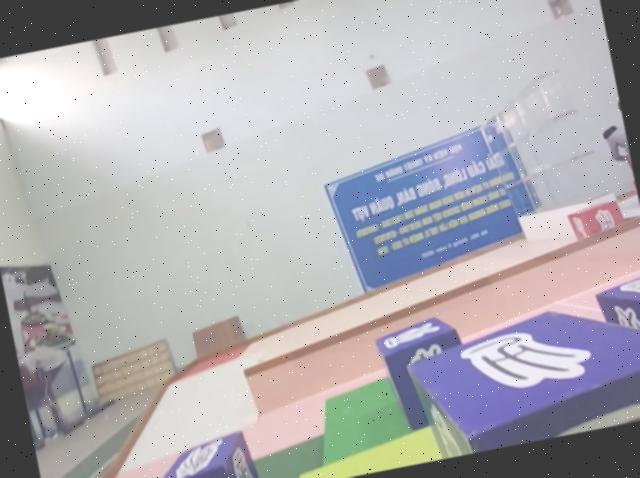R2 Fake Blue: (399, 289, 640, 462), (142, 426, 264, 478), (594, 273, 640, 356)
